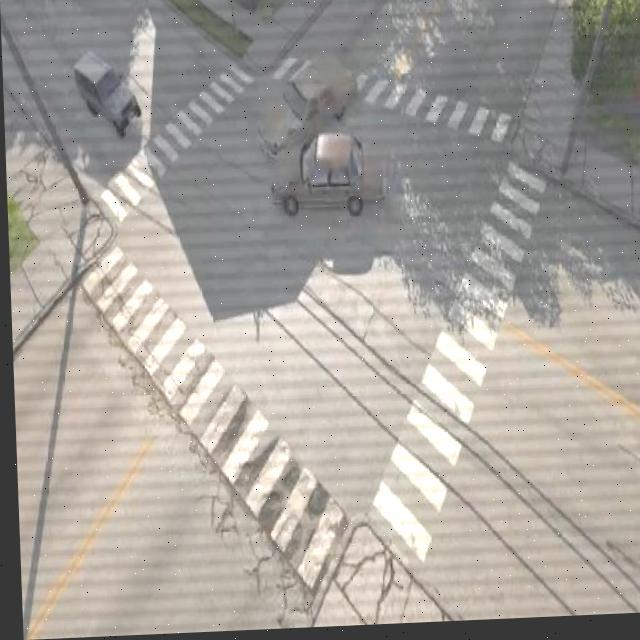multiple_accident: (246, 26, 386, 215)
